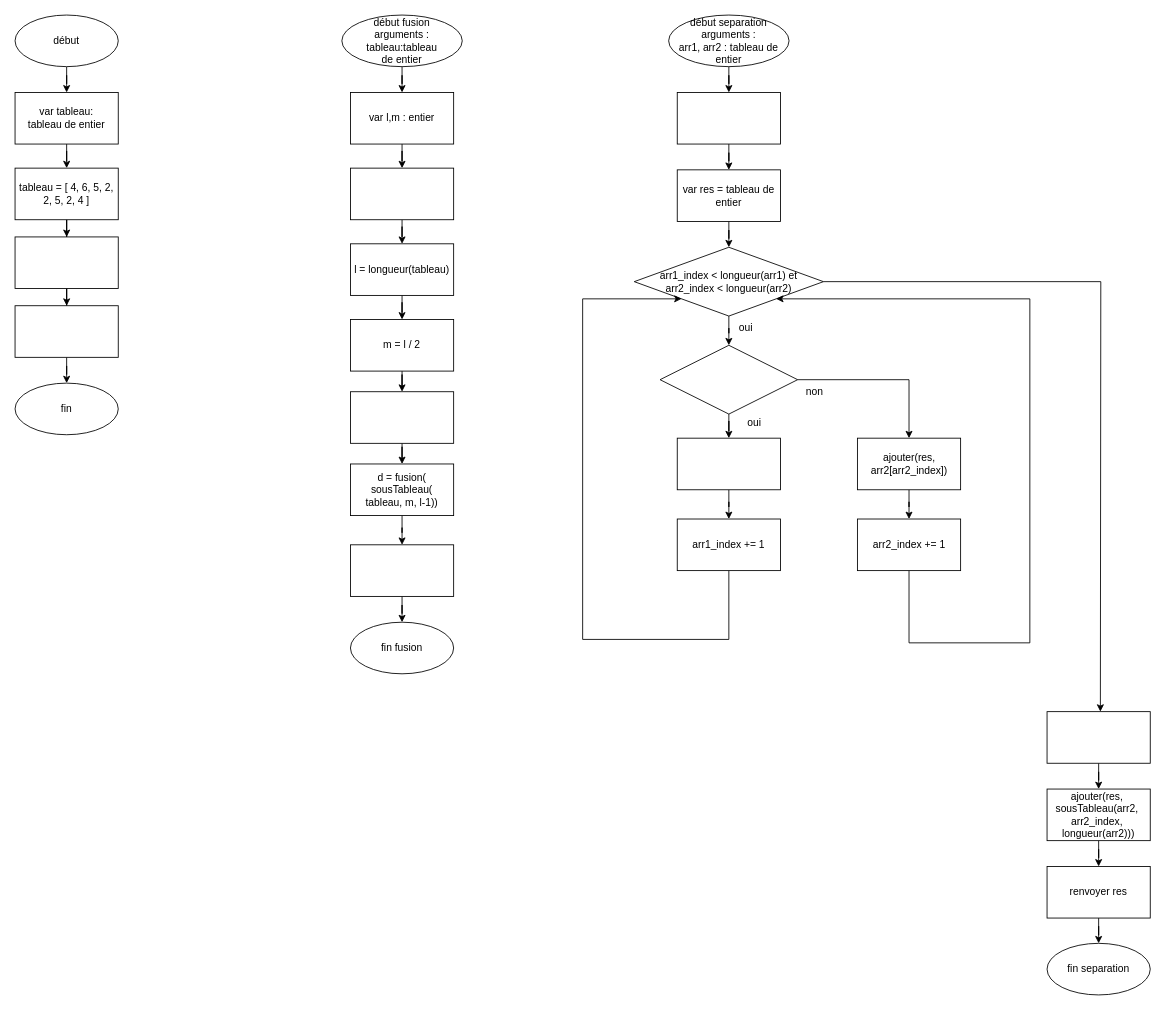
Image size: 1165x1011. Some labels were removed from this diagram. Here are the shapes that lost their labels. From the top down, the centre of each, then its label:
At (x=728, y=118): "var arr1_index, arr2_index : entier".
At (x=402, y=193): "var g, d : tableau de entier".
At (x=66, y=262): "fusion(tableau)".
At (x=66, y=331): "afficher(tableau)".
At (x=728, y=379): "arr1[arr1_index] < arr2[arr2_index]".
At (x=402, y=417): "g = fusion( sousTableau( tableau, 0, m-1))".
At (x=728, y=463): "ajouter(res, arr1[arr1_index])".
At (x=402, y=570): "renvoyer separation(g, d)".
At (x=1098, y=737): "ajouter(res, sousTableau(arr1, arr1_index, longueur(arr1)))".
